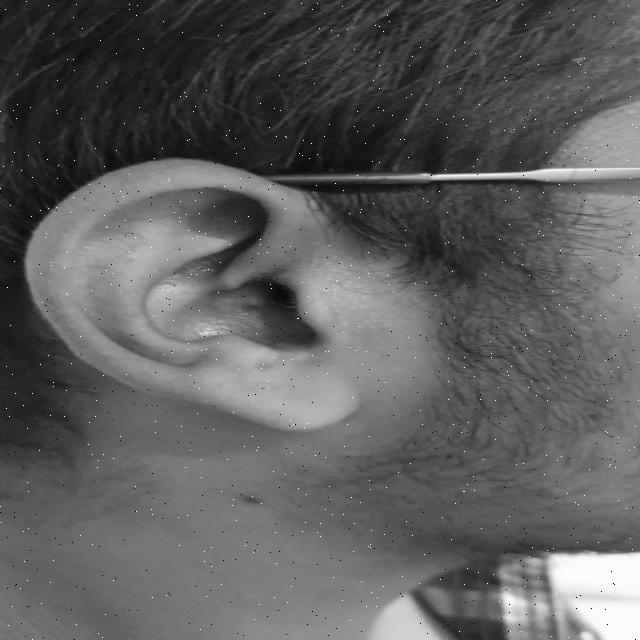ear: (28, 158, 360, 430)
